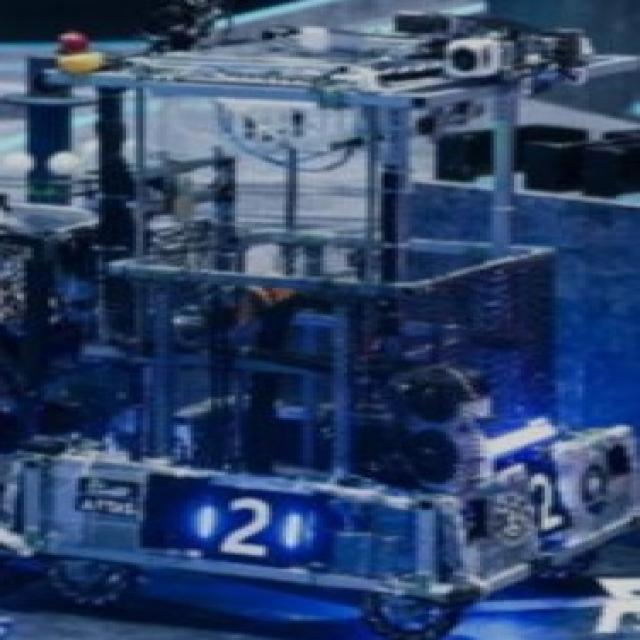B2: (187, 494, 310, 560)
